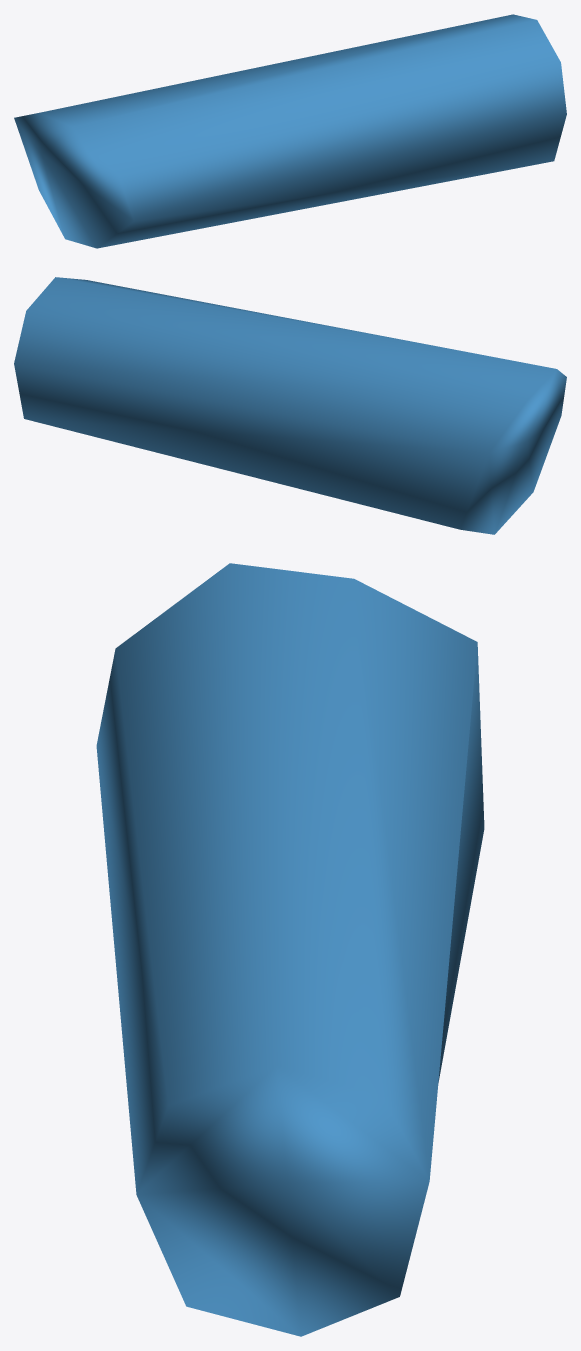
Rendered from Driver_Arm_02A.fbx.
3 renders of one model, top to bottom at view 1: azimuth 30°, elevation 25°; view 2: azimuth 150°, elevation 25°; view 3: azimuth 270°, elevation 25°, orthographic. The views are drawn at different scales.
Visible parts, largest first — view 1: Driver_Arm_02A; view 2: Driver_Arm_02A; view 3: Driver_Arm_02A.
Boxes of the visible parts, x1=… form: Driver_Arm_02A: x1=14, y1=14, x2=566, y2=248; Driver_Arm_02A: x1=14, y1=277, x2=566, y2=534; Driver_Arm_02A: x1=96, y1=563, x2=484, y2=1336.
Size of the model in its own units: 33.74 by 10.42 by 11.79.
